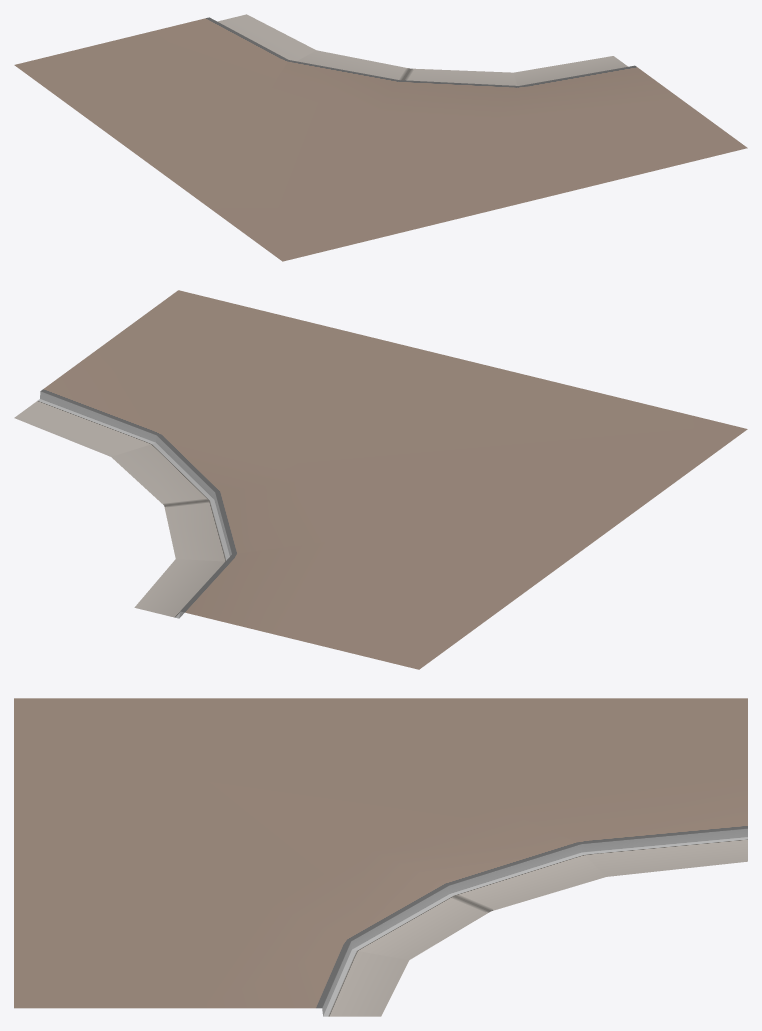
Rendered from island_curve_out.fbx.
The picture shows the model from 3 angles, top to bottom: view 1: azimuth 30°, elevation 25°; view 2: azimuth 150°, elevation 25°; view 3: azimuth 270°, elevation 25°; orthographic projection. The views are drawn at different scales.
Visible parts, largest first — view 1: island_curve_out; view 2: island_curve_out; view 3: island_curve_out.
Boxes of the visible parts, x1=… form: island_curve_out: x1=14, y1=14, x2=747, y2=261; island_curve_out: x1=14, y1=290, x2=747, y2=669; island_curve_out: x1=14, y1=698, x2=747, y2=1016.
Size of the model in its own units: 8 by 0.1399 by 8.
